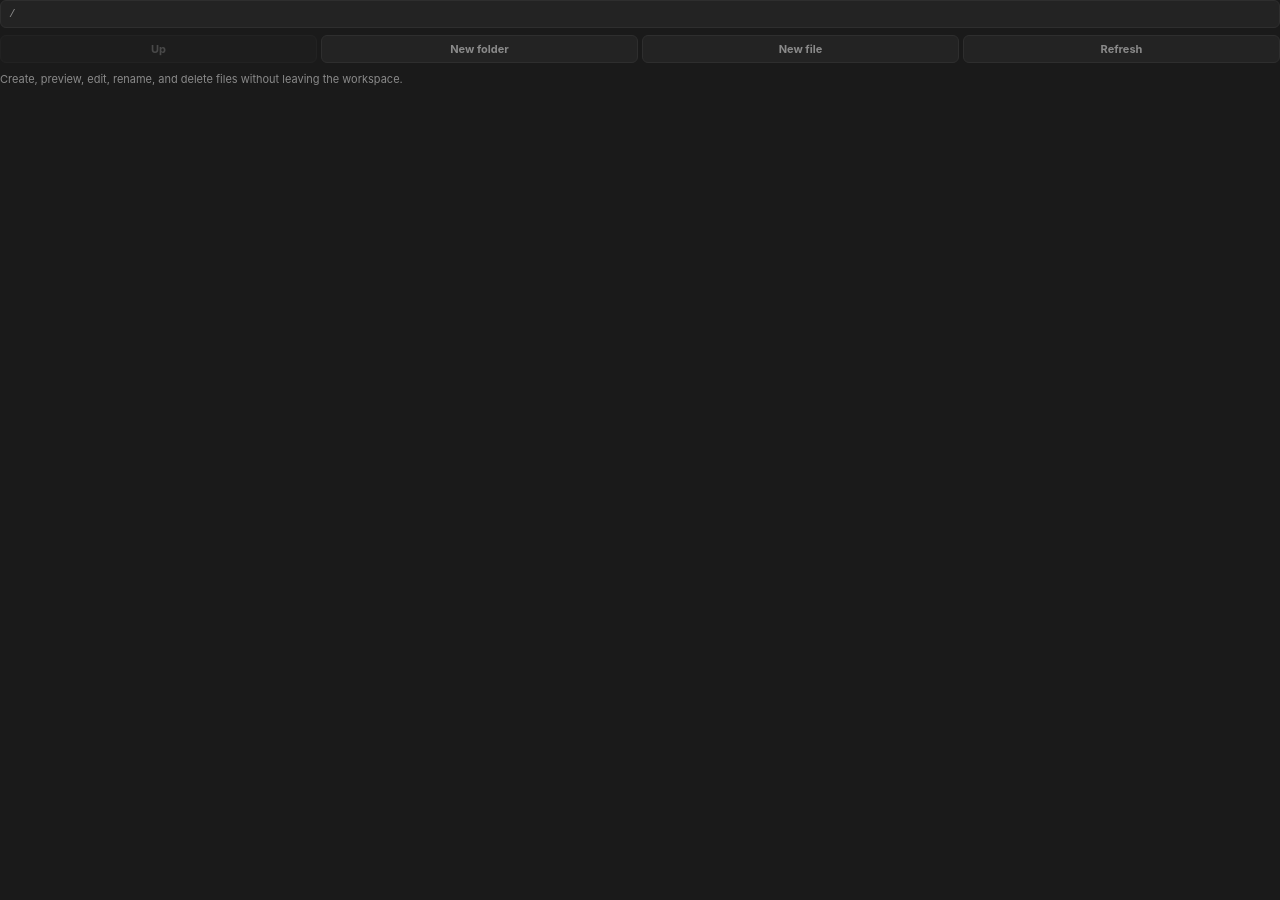
Test: WorkspaceFilePanel - Error Clearing on Success › should clear error when createFolder succeeds after previous error
The image size is (1280, 900).
Click the button "New folder" at {"x": 480, "y": 49}, box left=321, top=35, right=638, bottom=63
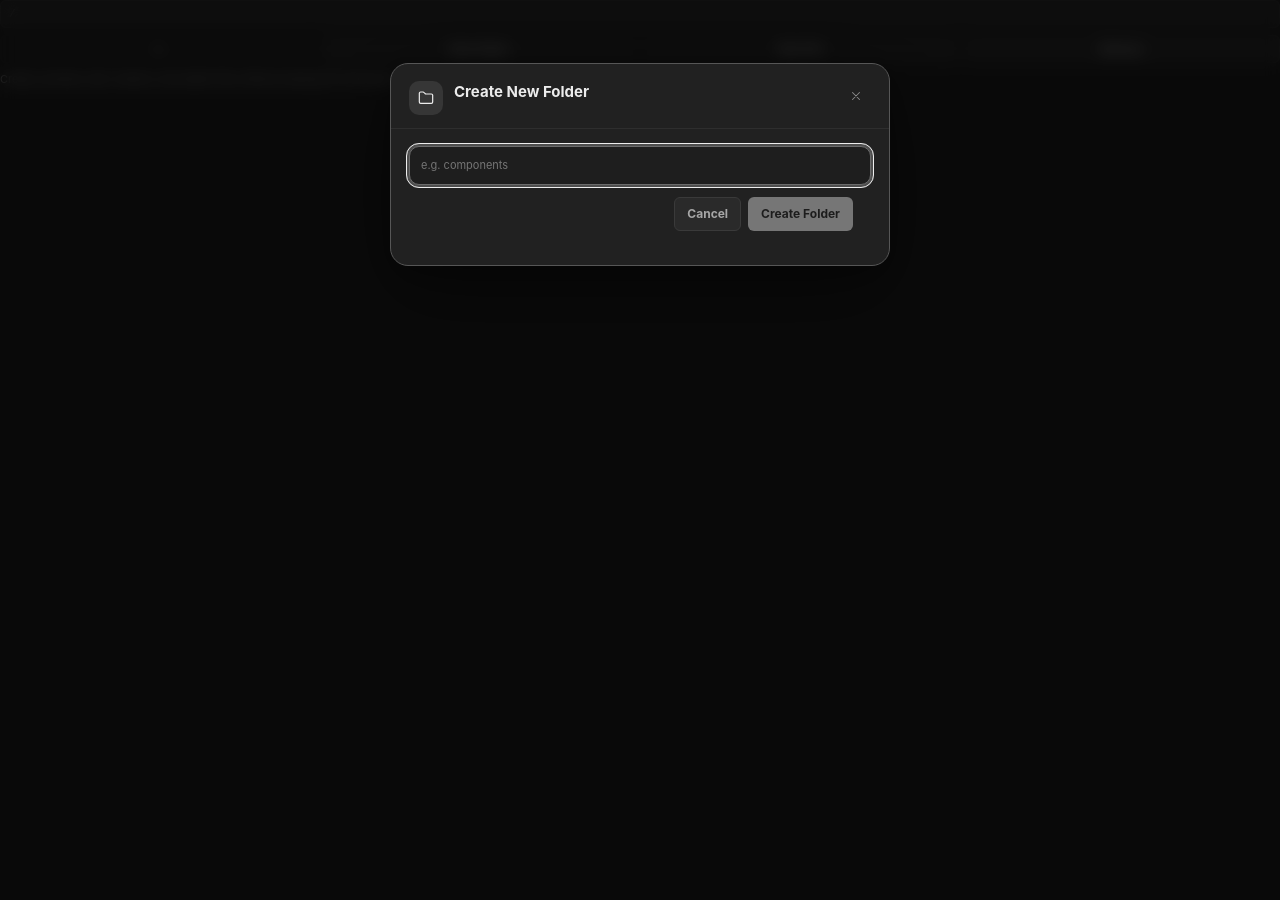
Type "test-folder" into the field at {"x": 640, "y": 166}, box left=409, top=146, right=871, bottom=185
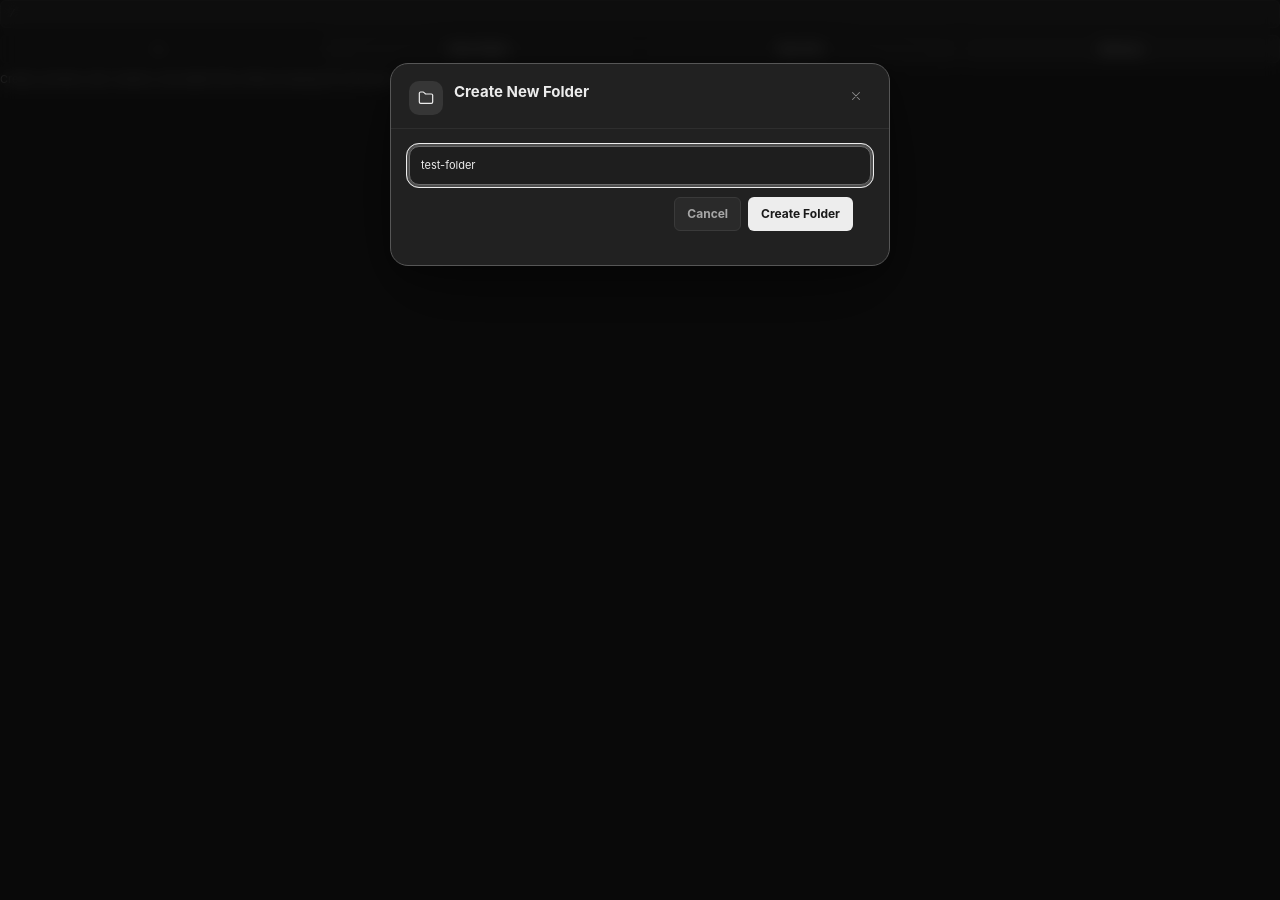
Click the button "Create Folder" at {"x": 801, "y": 214}, box left=748, top=197, right=853, bottom=231
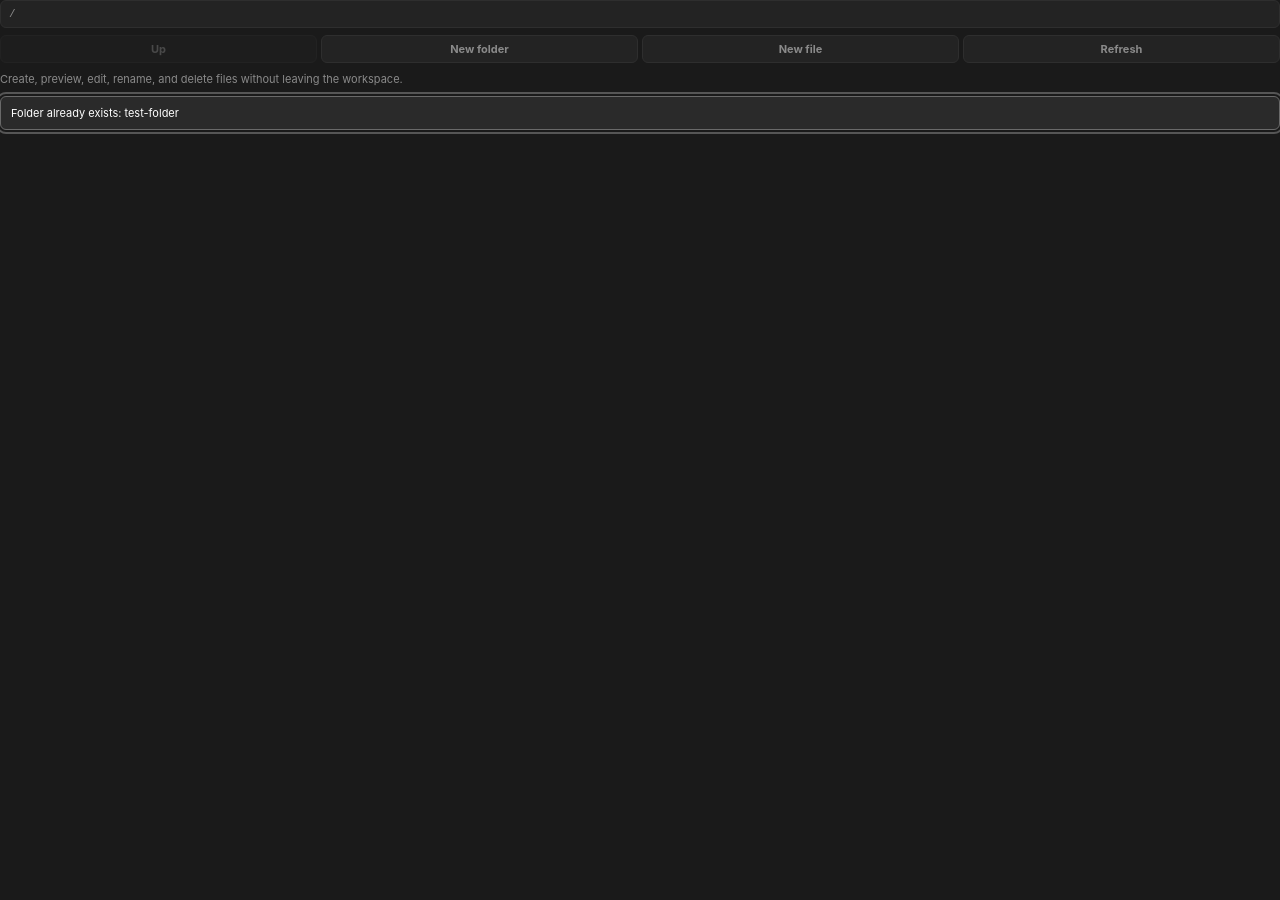
Result: the text "Folder already exists: test-folder" is shown at left=0, top=96, right=1279, bottom=130
Click the button "New folder" at {"x": 480, "y": 49}, box left=321, top=35, right=638, bottom=63
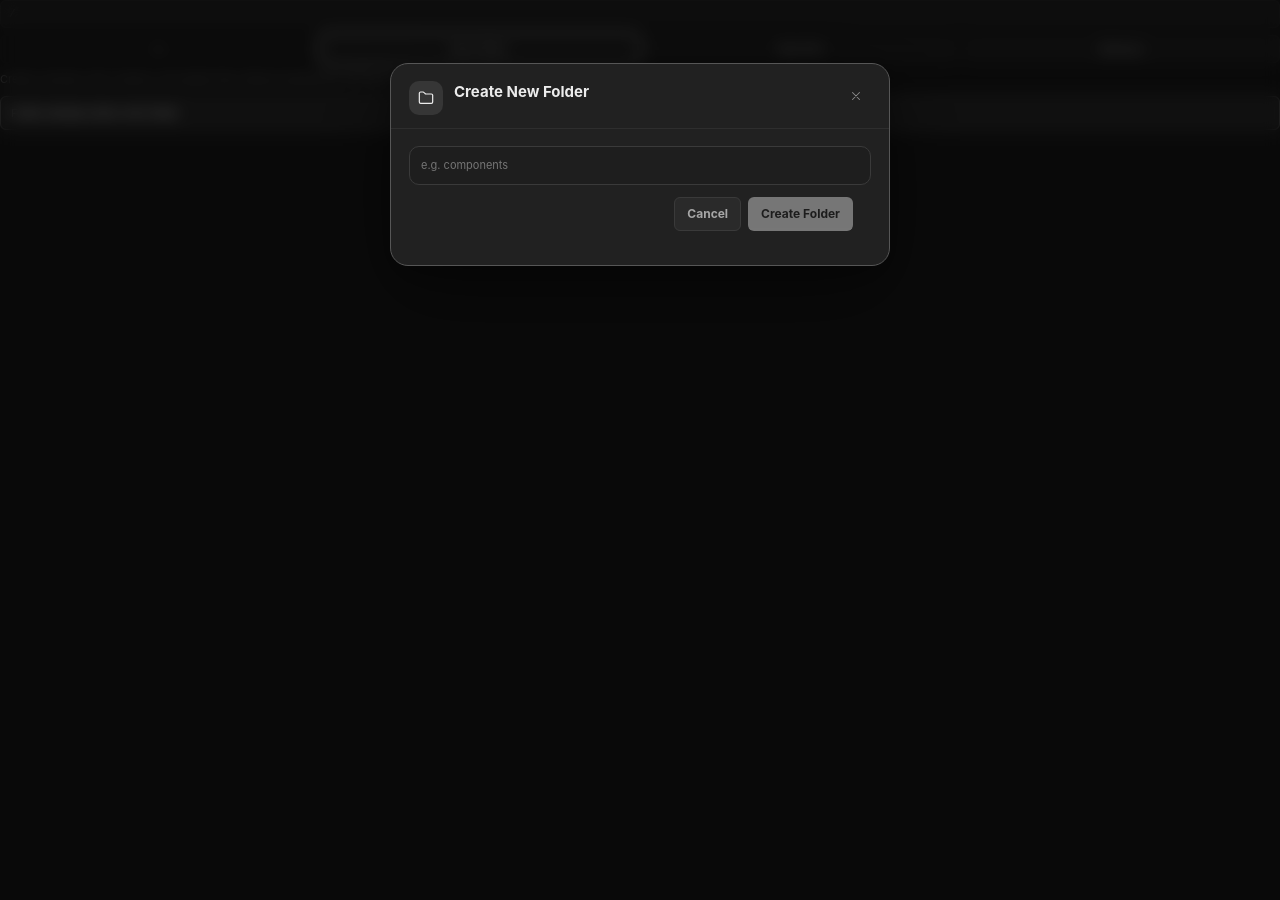
Type "new-folder" into the field at {"x": 640, "y": 166}, box left=409, top=146, right=871, bottom=185
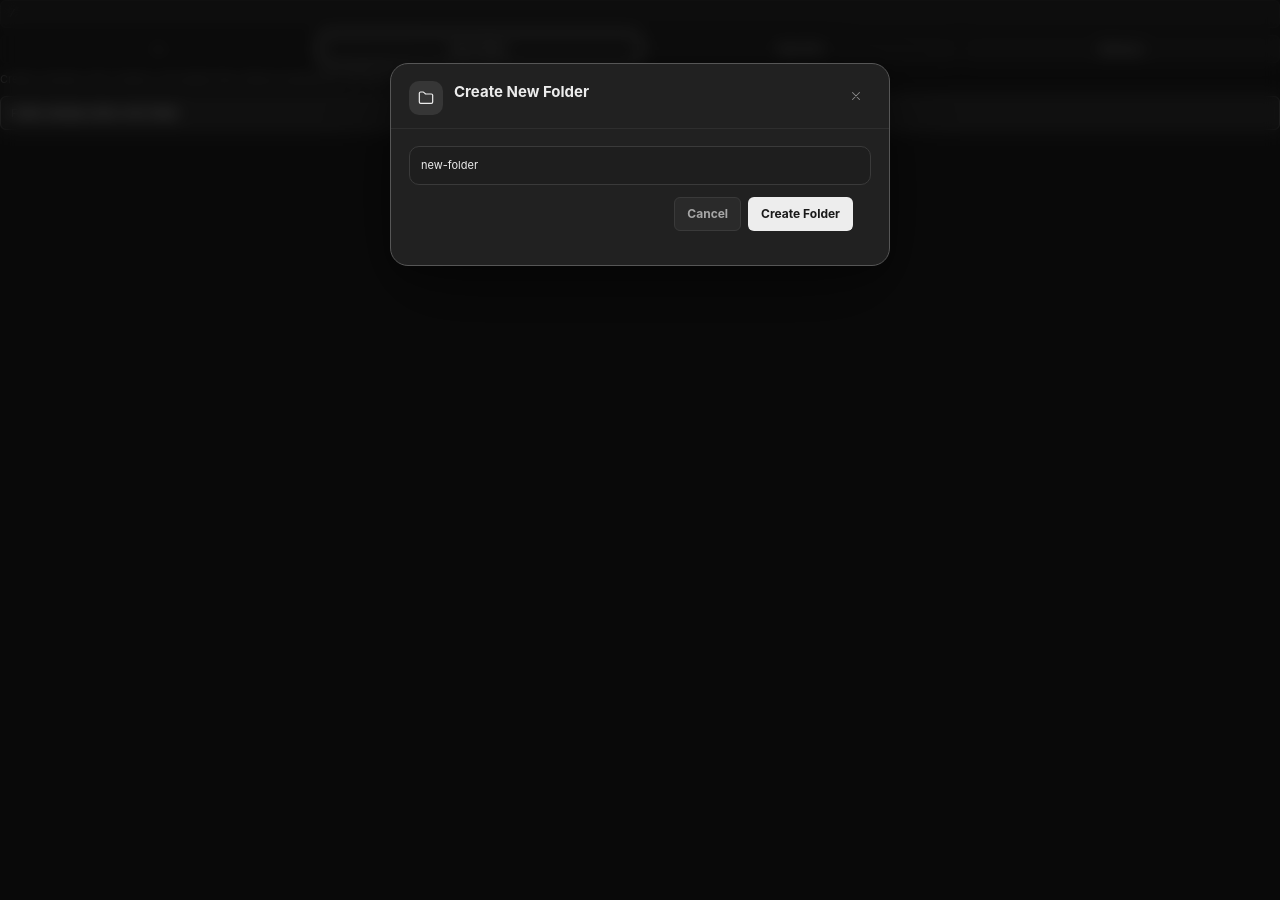
Click the button "Create Folder" at {"x": 801, "y": 214}, box left=748, top=197, right=853, bottom=231
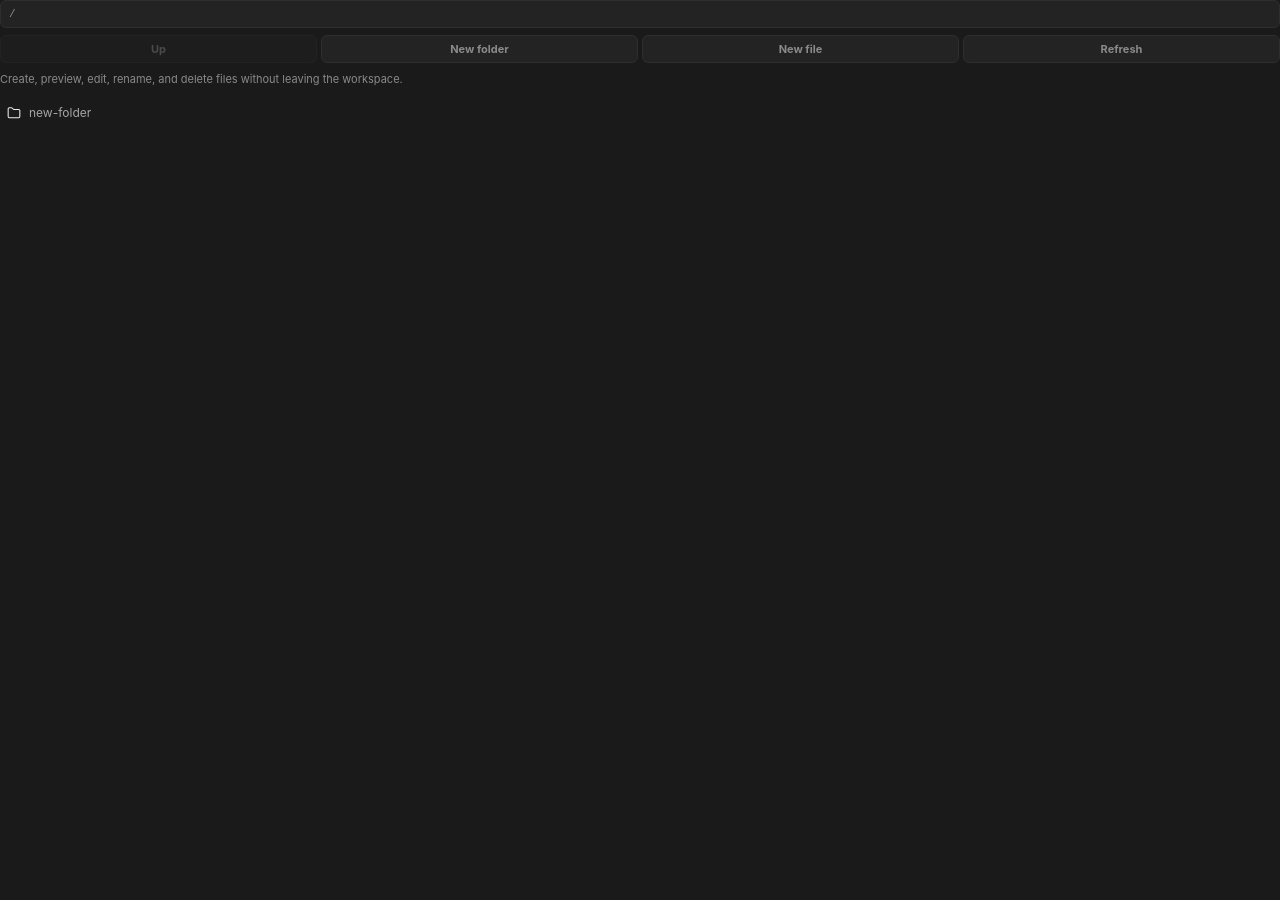
Result: the text "already exists" is gone
